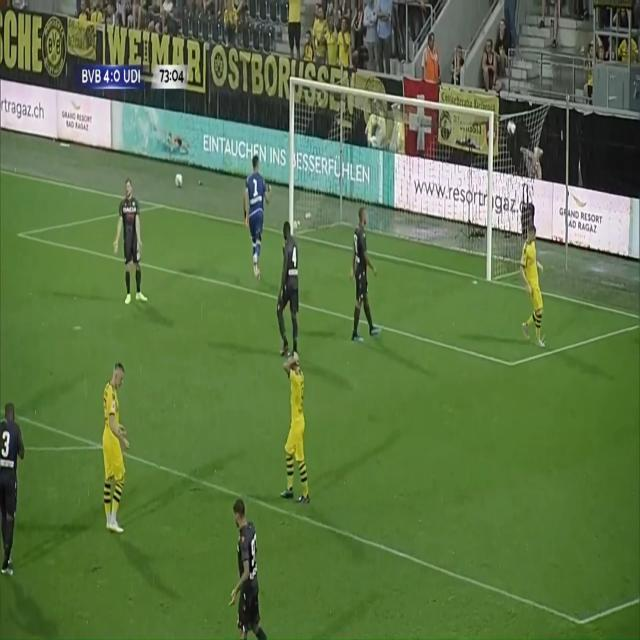ball: (173, 172, 185, 188)
goalkeeper: (244, 147, 272, 276)
player: (93, 363, 143, 541), (227, 476, 269, 640), (110, 173, 154, 315), (1, 396, 30, 591), (283, 356, 319, 510), (517, 211, 553, 358), (345, 204, 380, 345), (276, 213, 304, 357)
